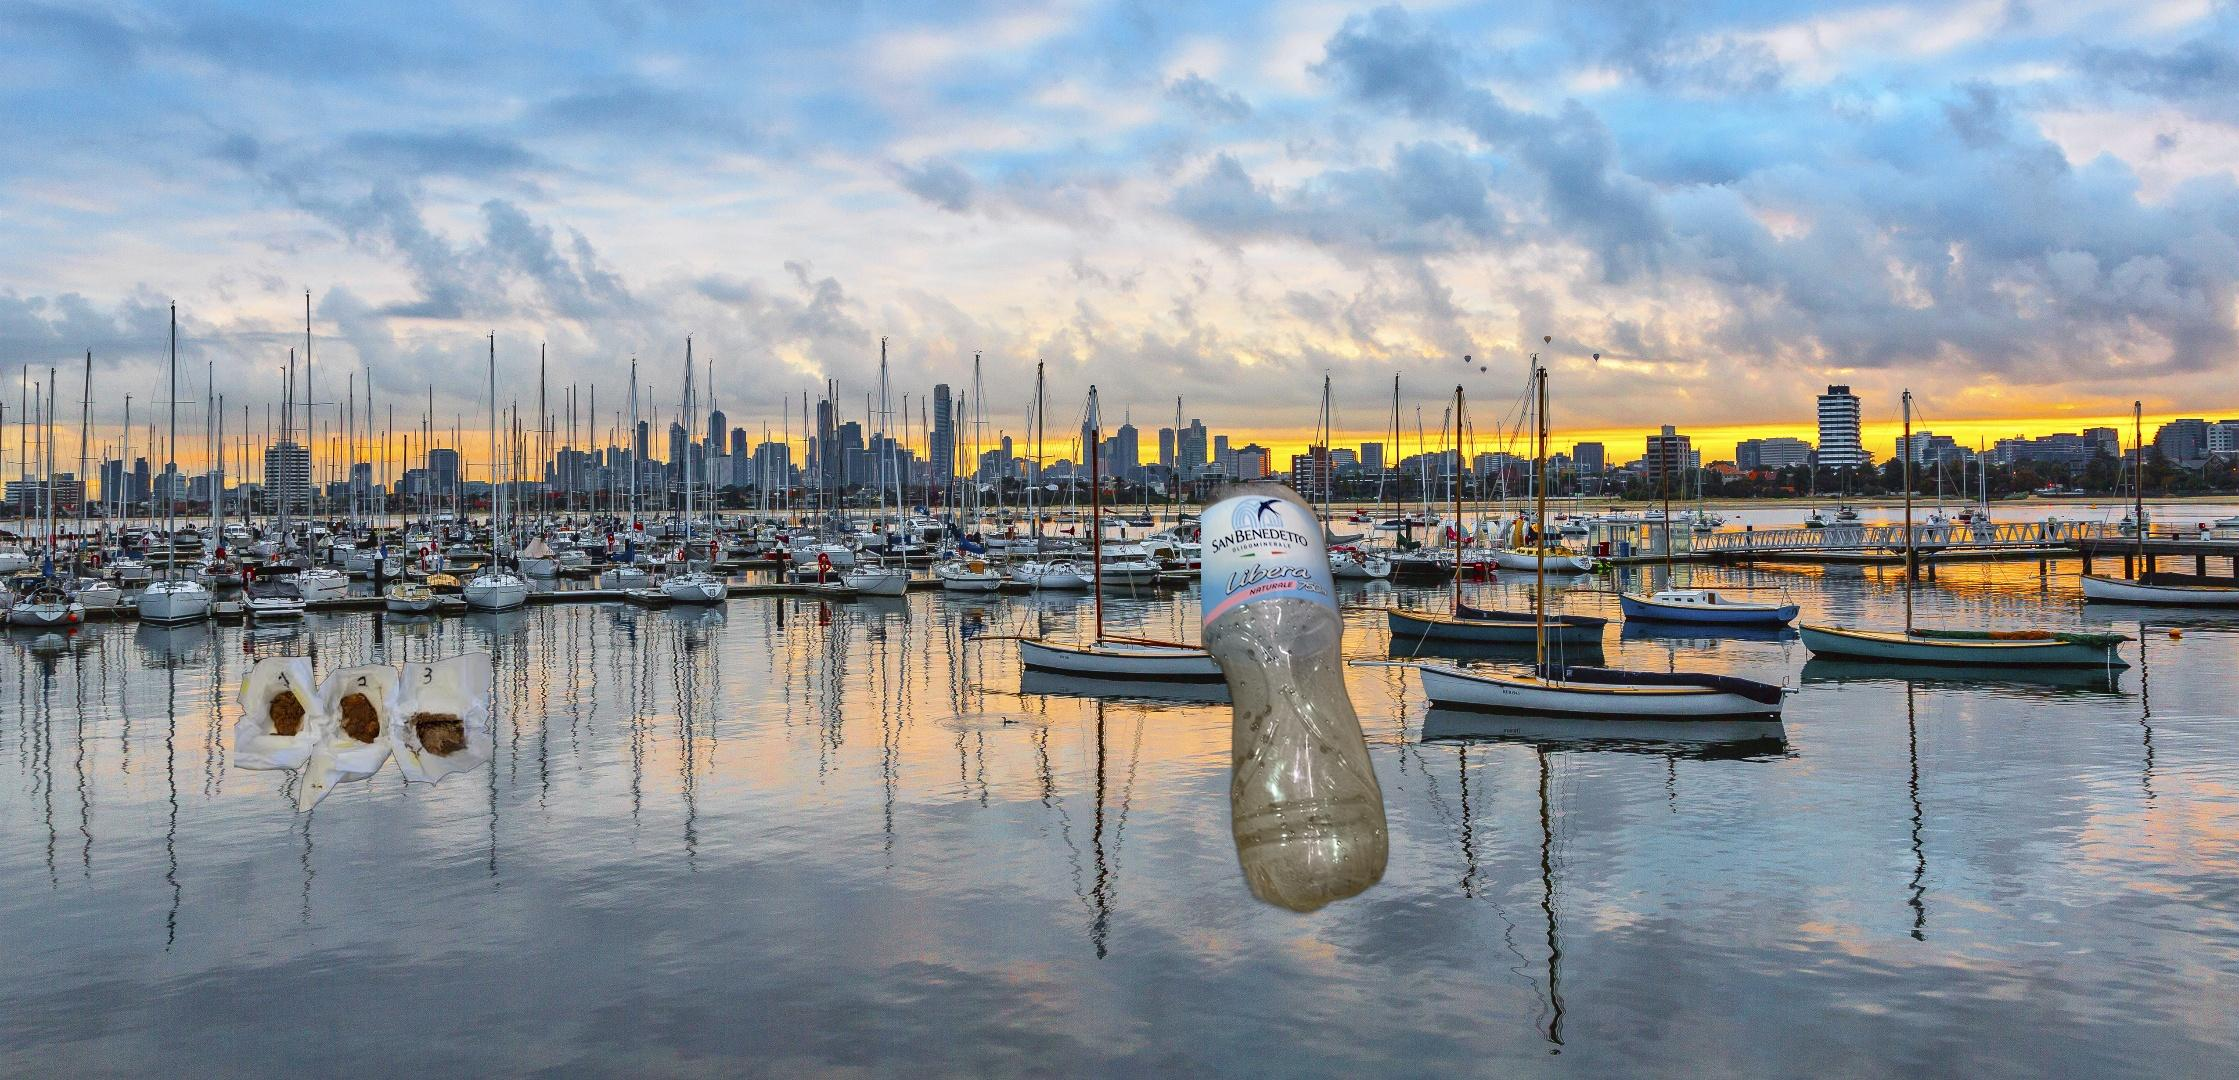plastic-bottles: (1201, 483, 1392, 923)
trash: (234, 649, 493, 816)
